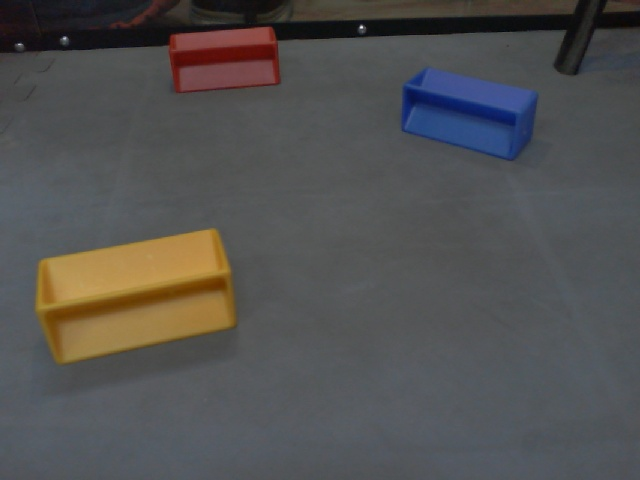BlueSample: (400, 64, 540, 163)
RedSample: (166, 25, 283, 94)
YellowSample: (33, 224, 238, 371)
